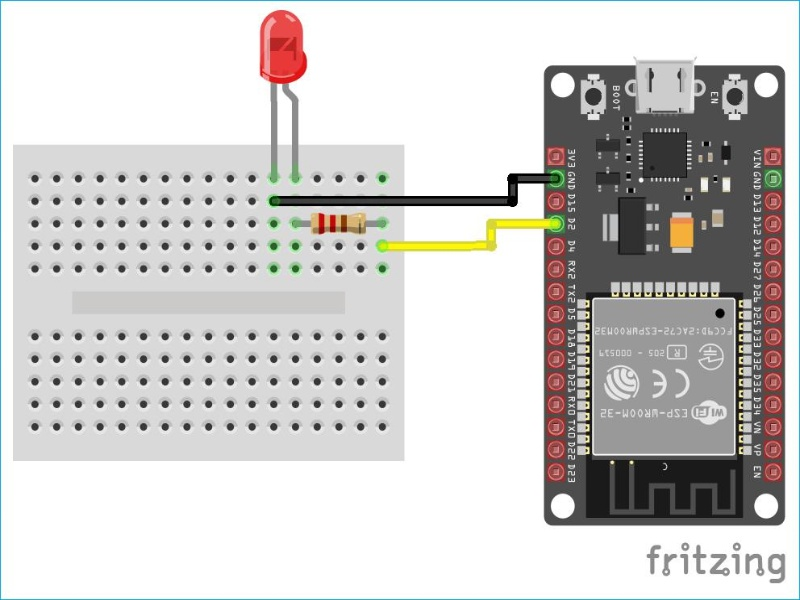esp32: (525, 55, 795, 532)
